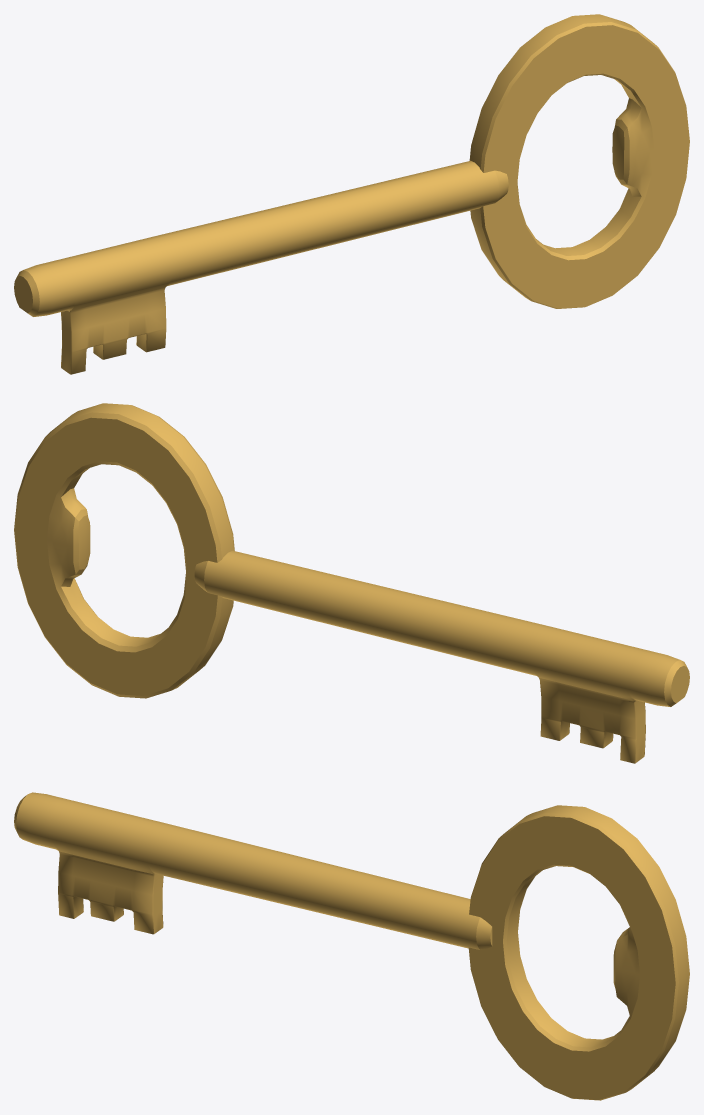
File: key.fbx
The picture shows the model from 3 angles, top to bottom: view 1: azimuth 30°, elevation 25°; view 2: azimuth 150°, elevation 25°; view 3: azimuth 330°, elevation 25°; orthographic projection.
Parts seen in each view (by area): view 1: Key_01; view 2: Key_01; view 3: Key_01.
Part boxes in pixels (x1,y1,x2,y2): Key_01: (14,14,689,374); Key_01: (14,403,689,763); Key_01: (14,792,689,1100).
Size of the model in its own units: 31.02 by 12.78 by 2.07.
